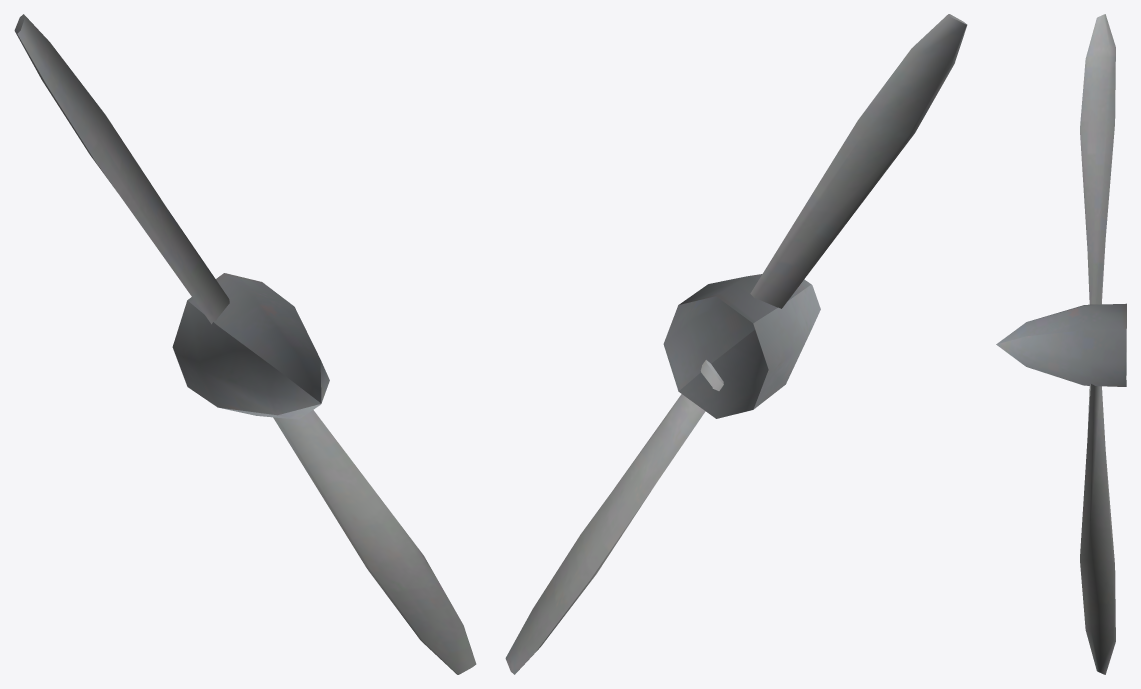
The model's file is propeller.obj.
3 renders of one model, left to right at view 1: azimuth 30°, elevation 25°; view 2: azimuth 150°, elevation 25°; view 3: azimuth 270°, elevation 25°, orthographic. The views are drawn at different scales.
Visible parts, largest first — view 1: propeller; view 2: propeller; view 3: propeller.
Part boxes in pixels (x1,y1,x2,y2): propeller: (14,14,476,674); propeller: (505,14,967,674); propeller: (996,14,1126,674).
Size of the model in its own units: 11.51 by 18.31 by 4.19.
